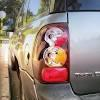Taillight-Damage: (32, 20, 72, 84)
